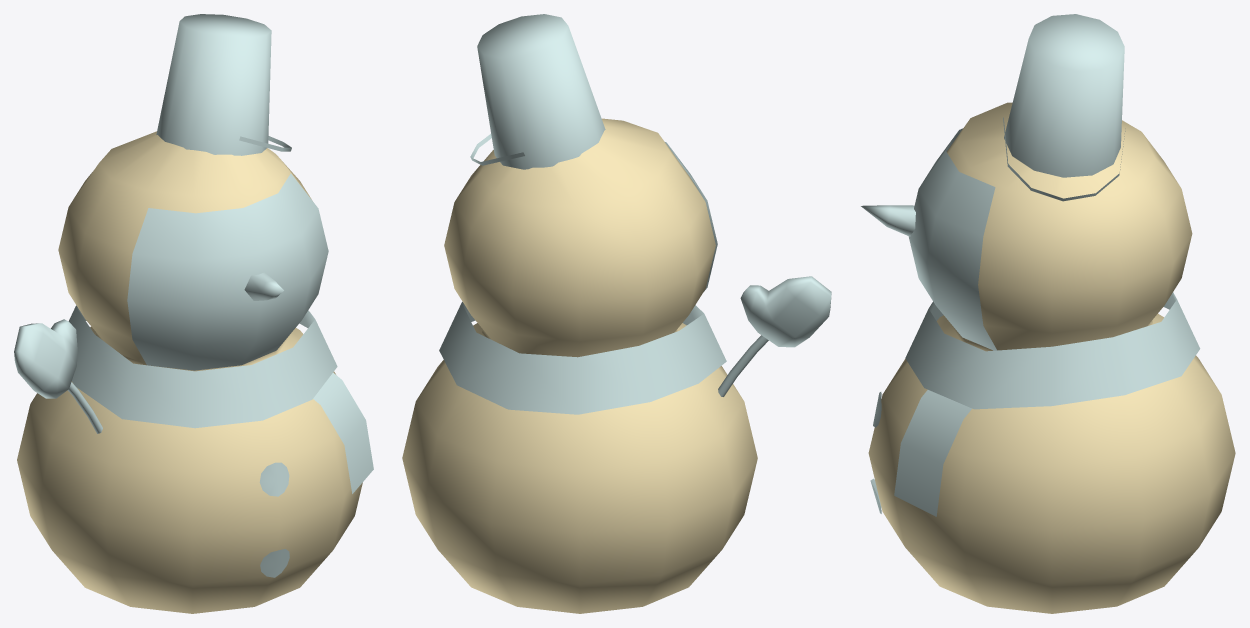
Rendered from PQ_Ch_Yukidaruma_L.fbx.
The picture shows the model from 3 angles, left to right: view 1: azimuth 30°, elevation 25°; view 2: azimuth 150°, elevation 25°; view 3: azimuth 270°, elevation 25°; orthographic projection. The views are drawn at different scales.
Visible parts, largest first — view 1: Yuki_Large; view 2: Yuki_Large; view 3: Yuki_Large.
Part boxes in pixels (x1,y1,x2,y2): Yuki_Large: [14, 14, 373, 613]; Yuki_Large: [402, 14, 831, 613]; Yuki_Large: [861, 14, 1235, 613].
Size of the model in its own units: 55.07 by 76.68 by 46.9.
